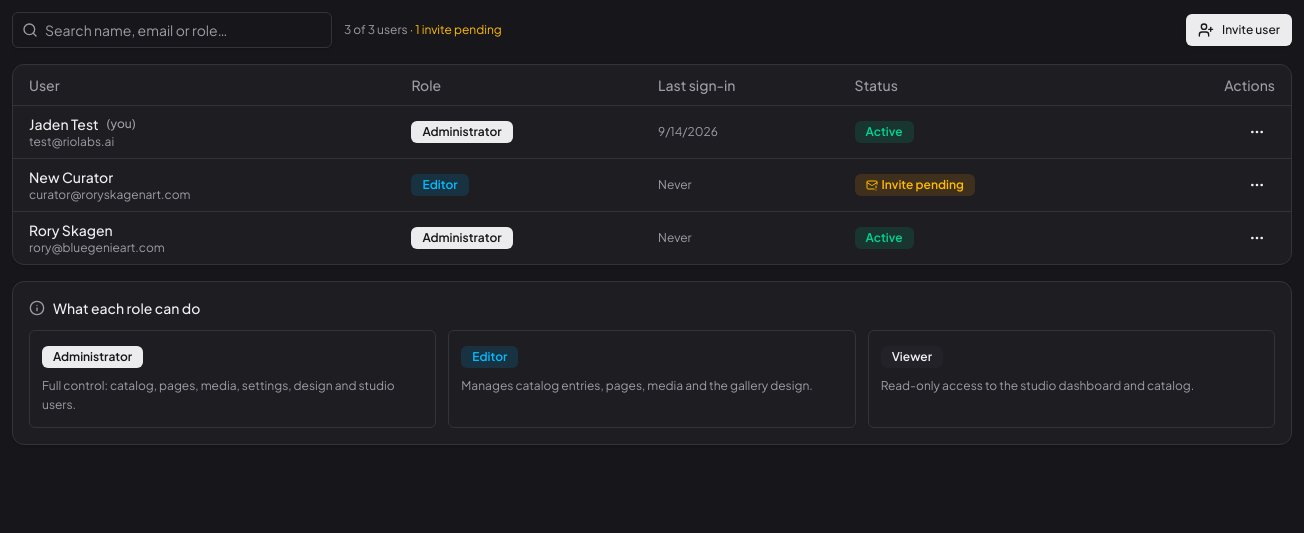
UsersAdminView › surfaces the API guard when a mutation is refused
Expected: the text "curator@roryskagenart.com" is shown, [29, 186, 190, 202]
Click the button named "Actions for curator@roryskagenart.com" at (1257, 184), box [1239, 166, 1275, 202]
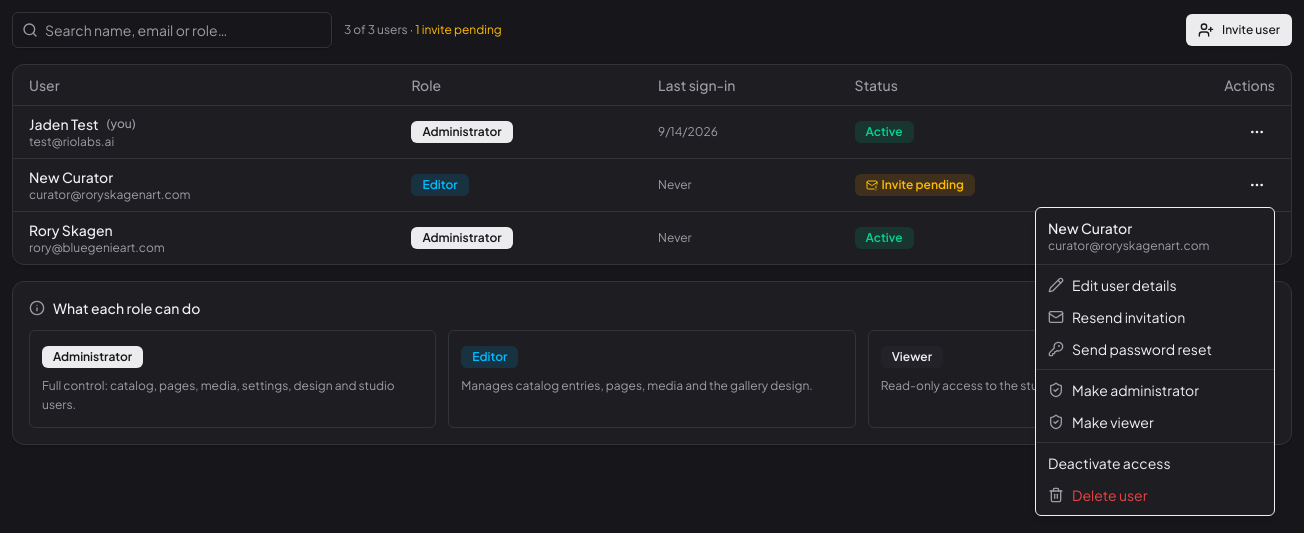
Click the menu item "Make administrator" at (1124, 390), box [1048, 381, 1199, 399]
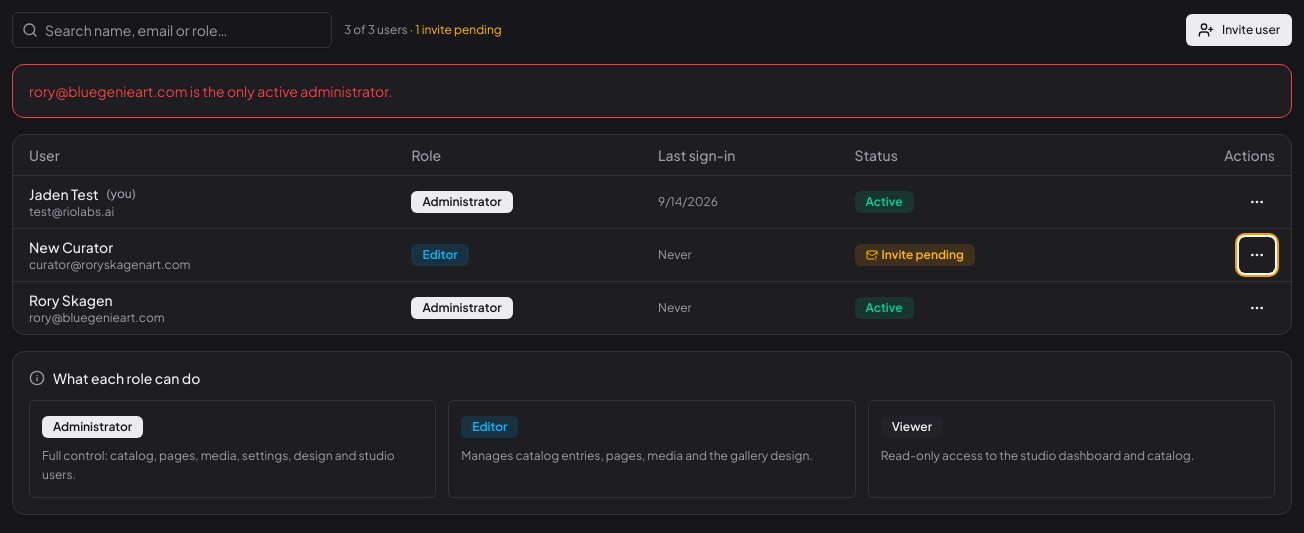
Result: the text "rory@bluegenieart.com is the only active administrator." is shown at [29, 82, 392, 100]
